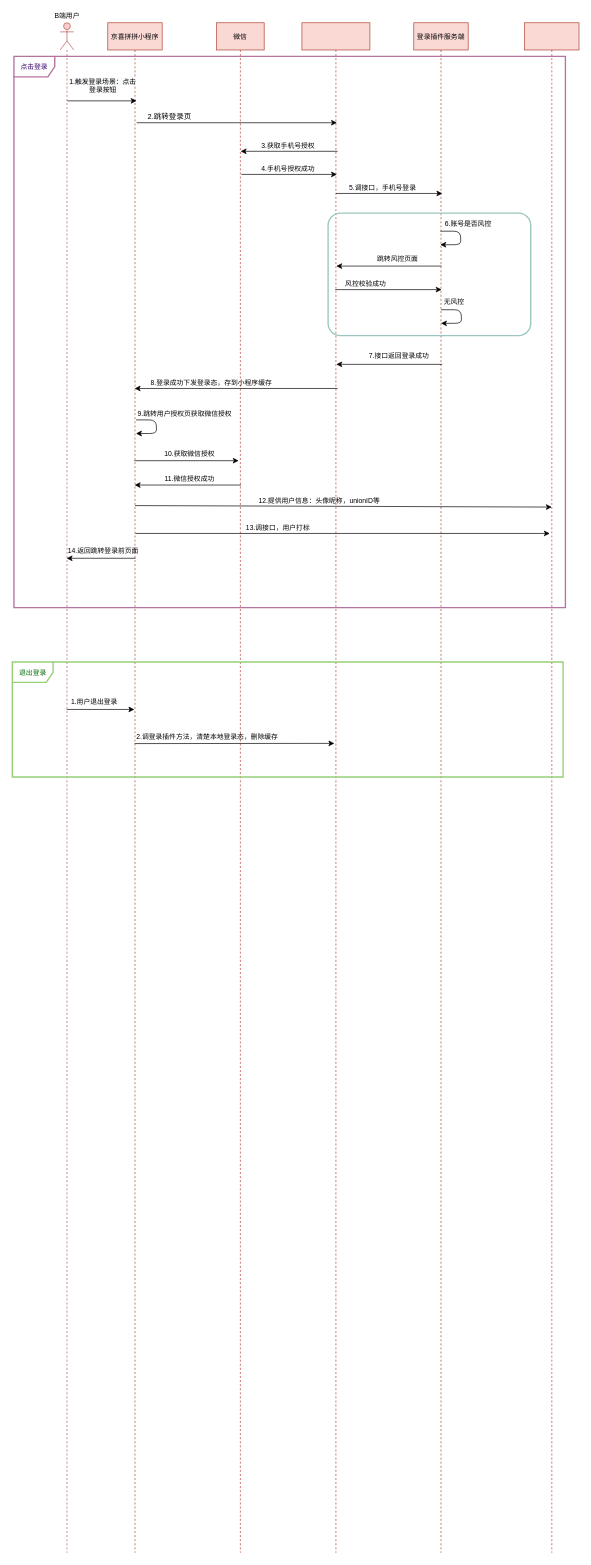
Some shapes in this 591 by 1565 pixel diagram are drawn without their labels. Each missing label, with the box of its shape:
京喜拼拼服务端: (524, 22, 579, 1553)
登录插件: (301, 22, 370, 1553)
